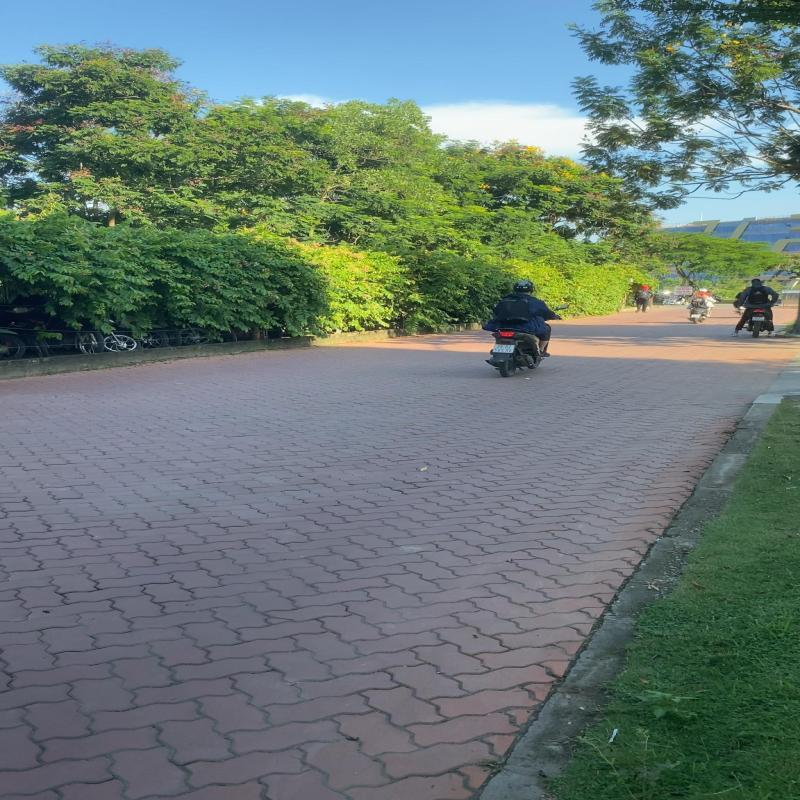helmet: (514, 280, 536, 294)
licenseplate: (492, 344, 516, 355)
motorcyclist: (481, 280, 563, 378)
